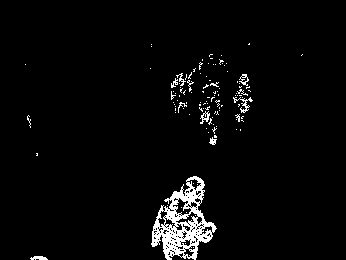person: (150, 174, 217, 260), (198, 73, 222, 146), (231, 71, 255, 135)
